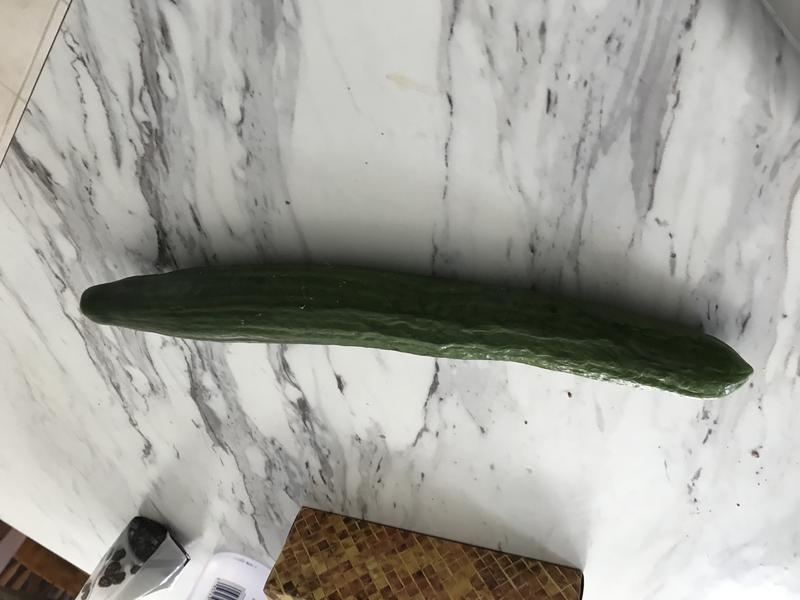cucumber: (72, 252, 759, 415)
